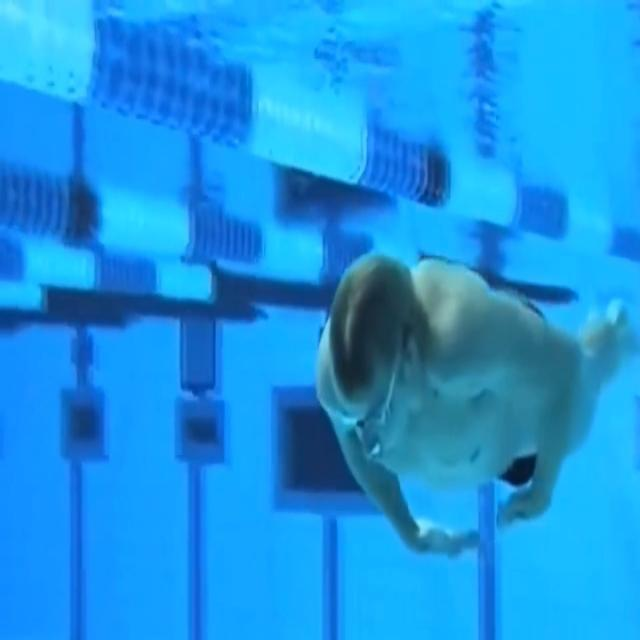Swimming: (314, 250, 640, 558)
